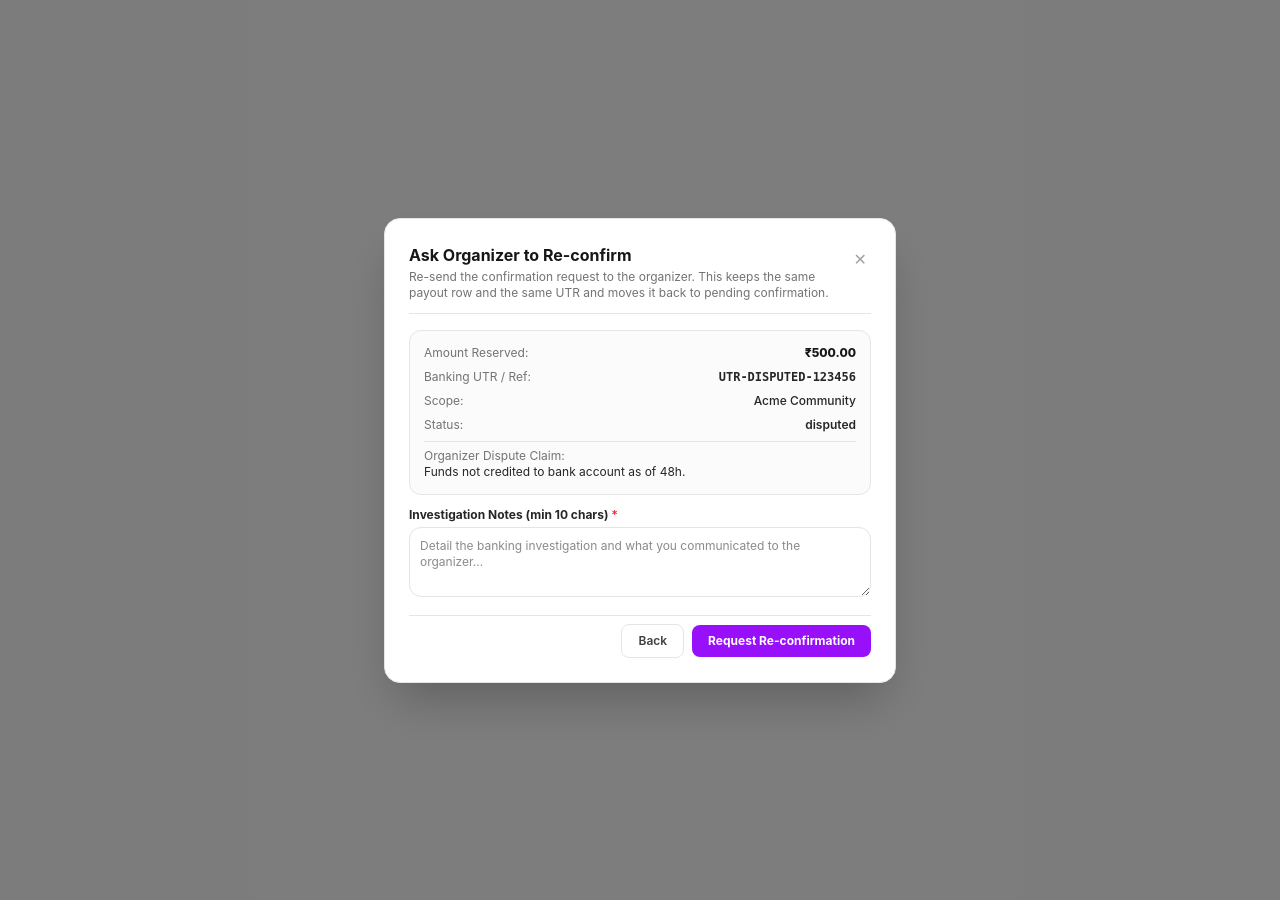
Scenario: PayoutDisputeResolutionModal › rejects audit notes shorter than 10 characters
Type "Too short" into the text box with placeholder "Detail the banking investigation" at (640, 562), box [409,526,871,596]
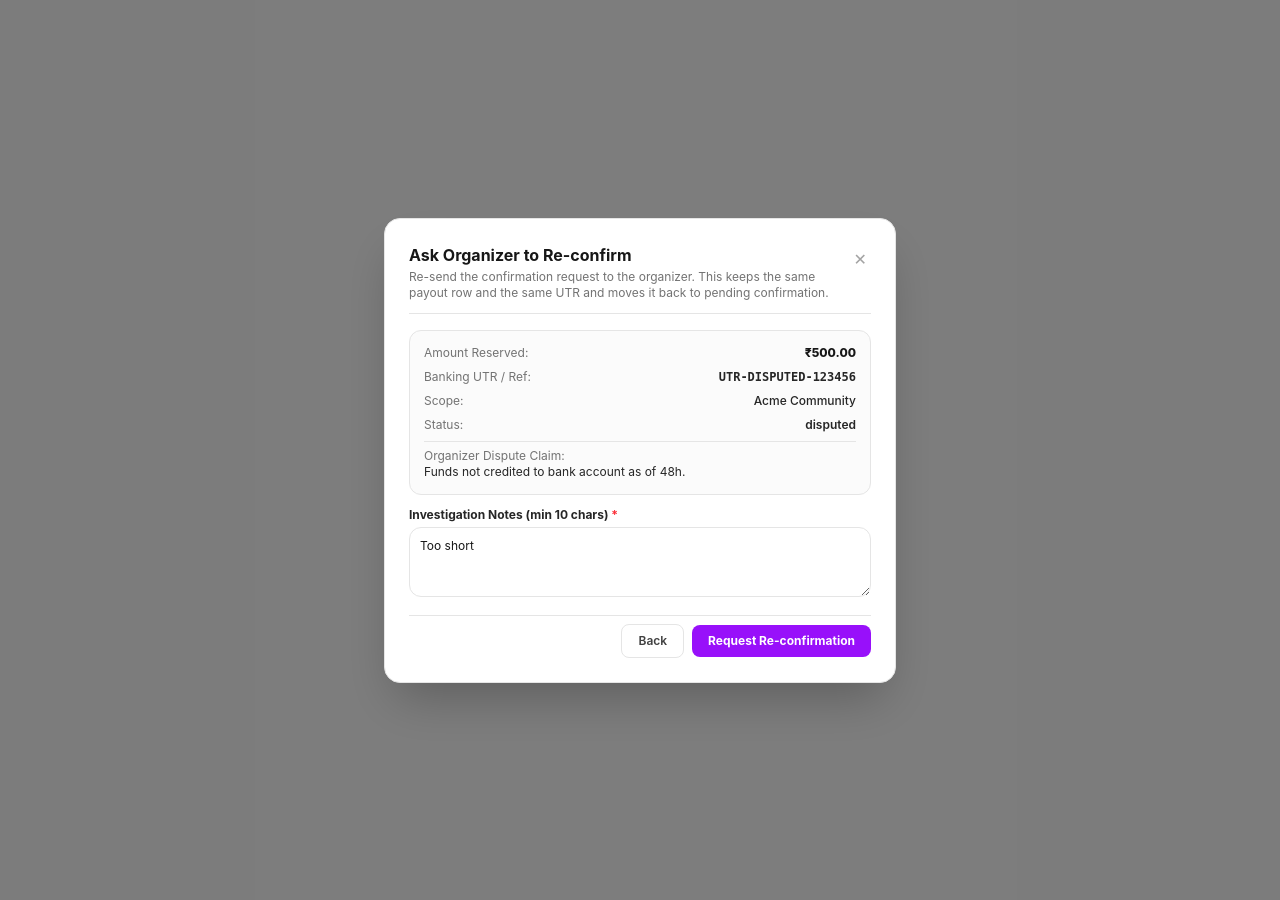
Click the button "Request Re-confirmation" at (782, 640), box [692,624,871,656]
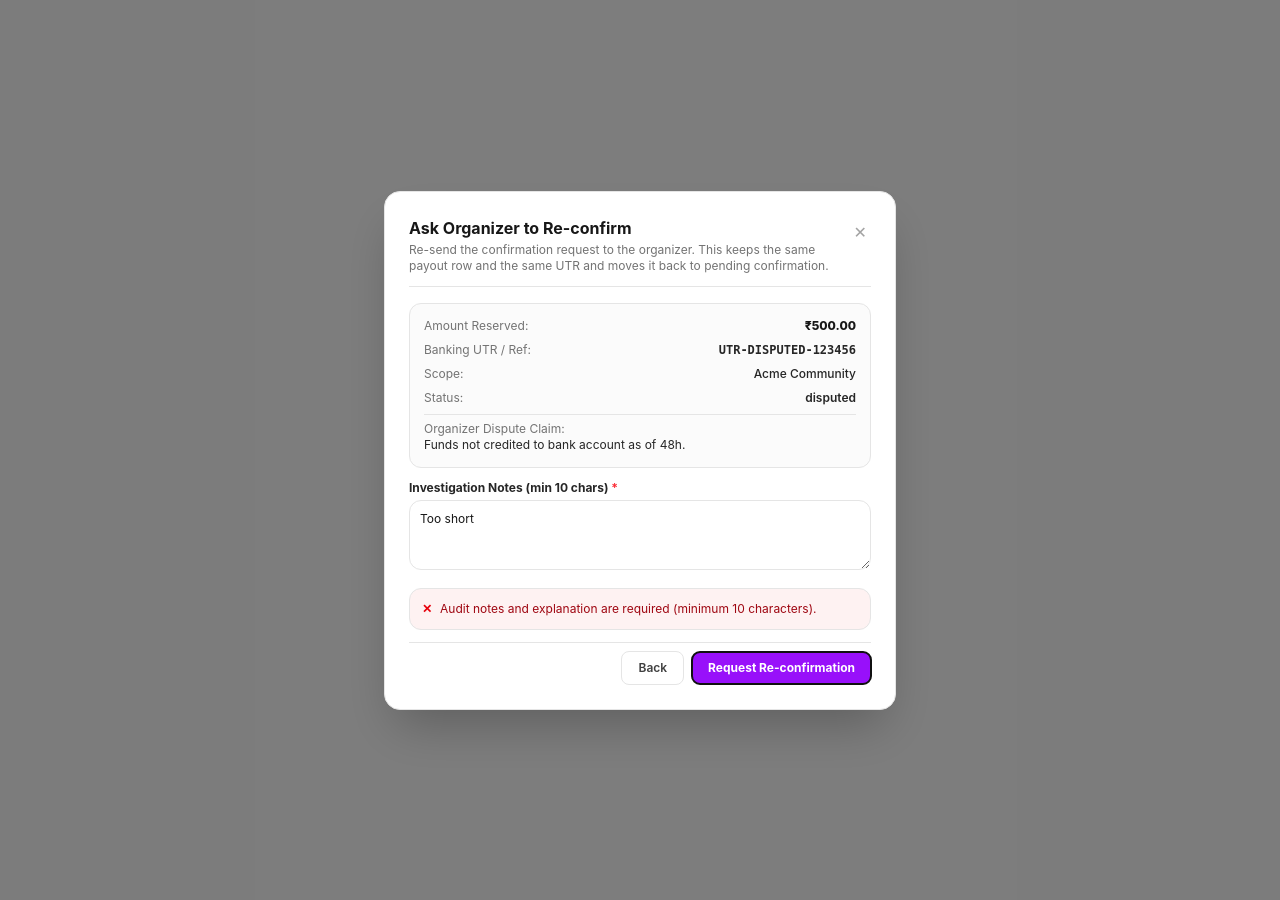
Expected: the text "Audit notes and explanation are required (minimum 10 characters)" is shown, [440,600,816,616]
